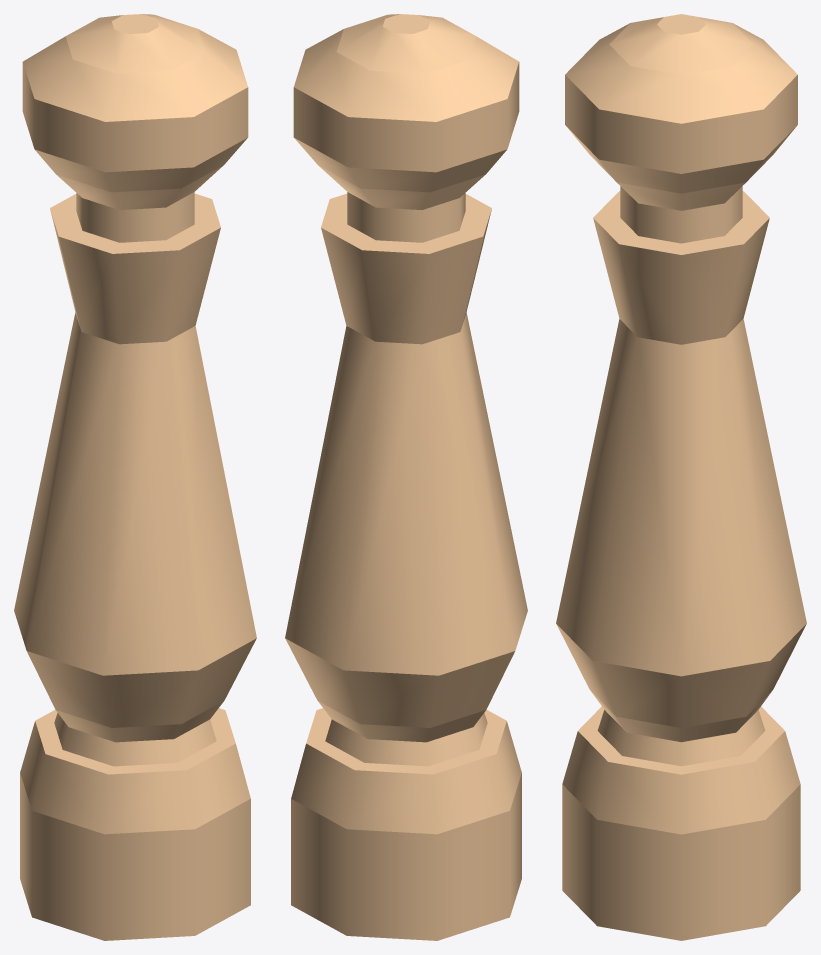
Rendered from pepperMill.obj.
3 views of the same model, side by side, from view 1: azimuth 30°, elevation 25°; view 2: azimuth 150°, elevation 25°; view 3: azimuth 270°, elevation 25° (orthographic).
Parts seen in each view (by area): view 1: pepperMill; view 2: pepperMill; view 3: pepperMill.
Part boxes in pixels (<box>): pepperMill: <box>14,14,256,940</box>; pepperMill: <box>285,14,527,940</box>; pepperMill: <box>556,14,806,940</box>.
Size of the model in its own units: 0.141 by 0.5372 by 0.141.
